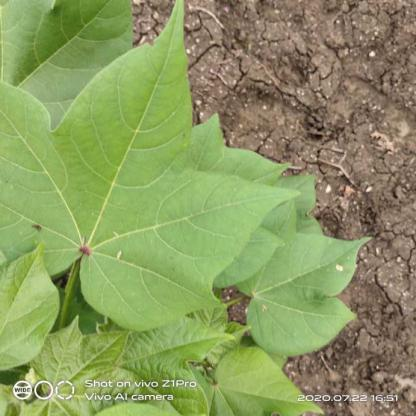cotton: (46, 5, 306, 345)
